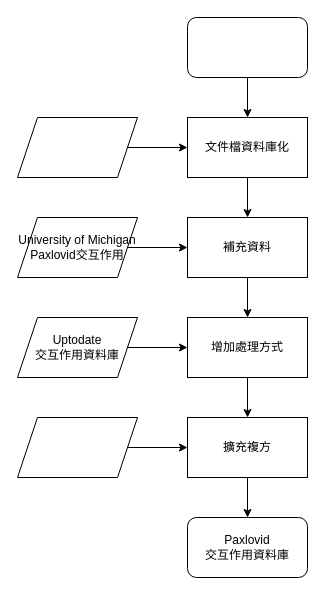
This 325x595 diagram has some shape labels left out. Here are the shapes that lost their labels. From the top down, the centre of each, then its label:
pixel 247 47: 建構資料庫
pixel 77 147: 衛服部Paxlovid 交互作用
pixel 77 447: WHO ATC/DDD Index
